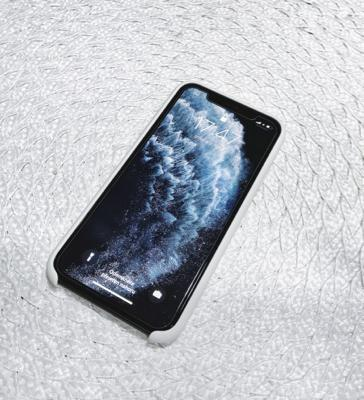cell-phone: (43, 74, 287, 352)
